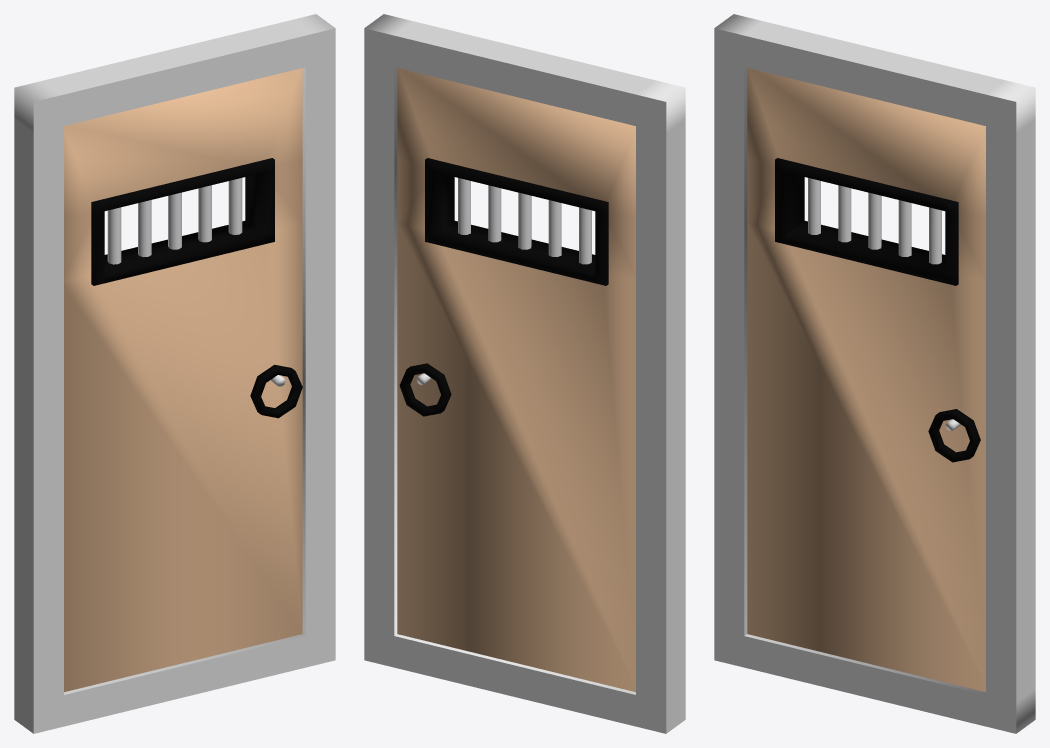
The model's file is jail_door.glb.
3 renders of one model, left to right at view 1: azimuth 30°, elevation 25°; view 2: azimuth 150°, elevation 25°; view 3: azimuth 330°, elevation 25°, orthographic.
Parts seen in each view (by area): view 1: JailDoor; view 2: JailDoor; view 3: JailDoor.
Part boxes in pixels (x1,y1,x2,y2): JailDoor: (14,14,335,733); JailDoor: (364,14,685,733); JailDoor: (714,14,1035,733).
Size of the model in its own units: 1 by 2 by 0.1667.
